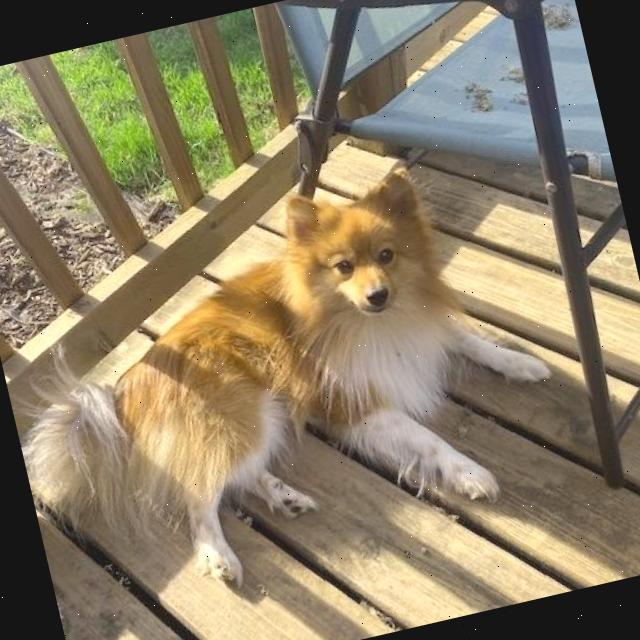pomeranian_dog: (252, 153, 458, 384)
